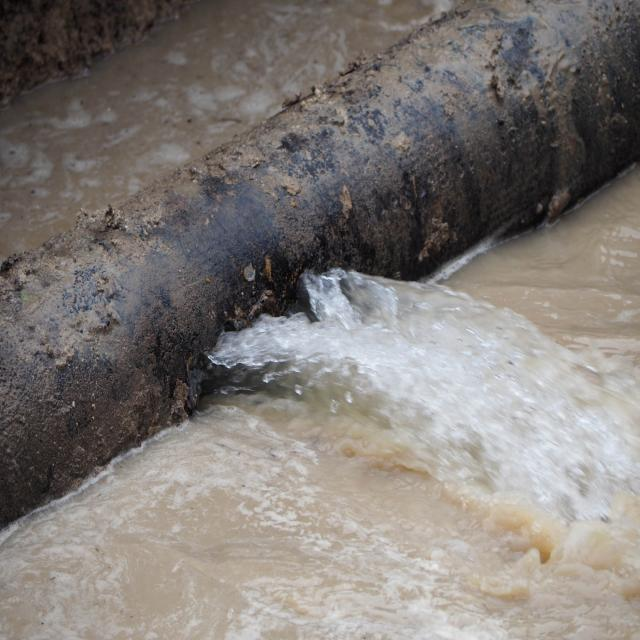leak: (210, 269, 640, 519)
